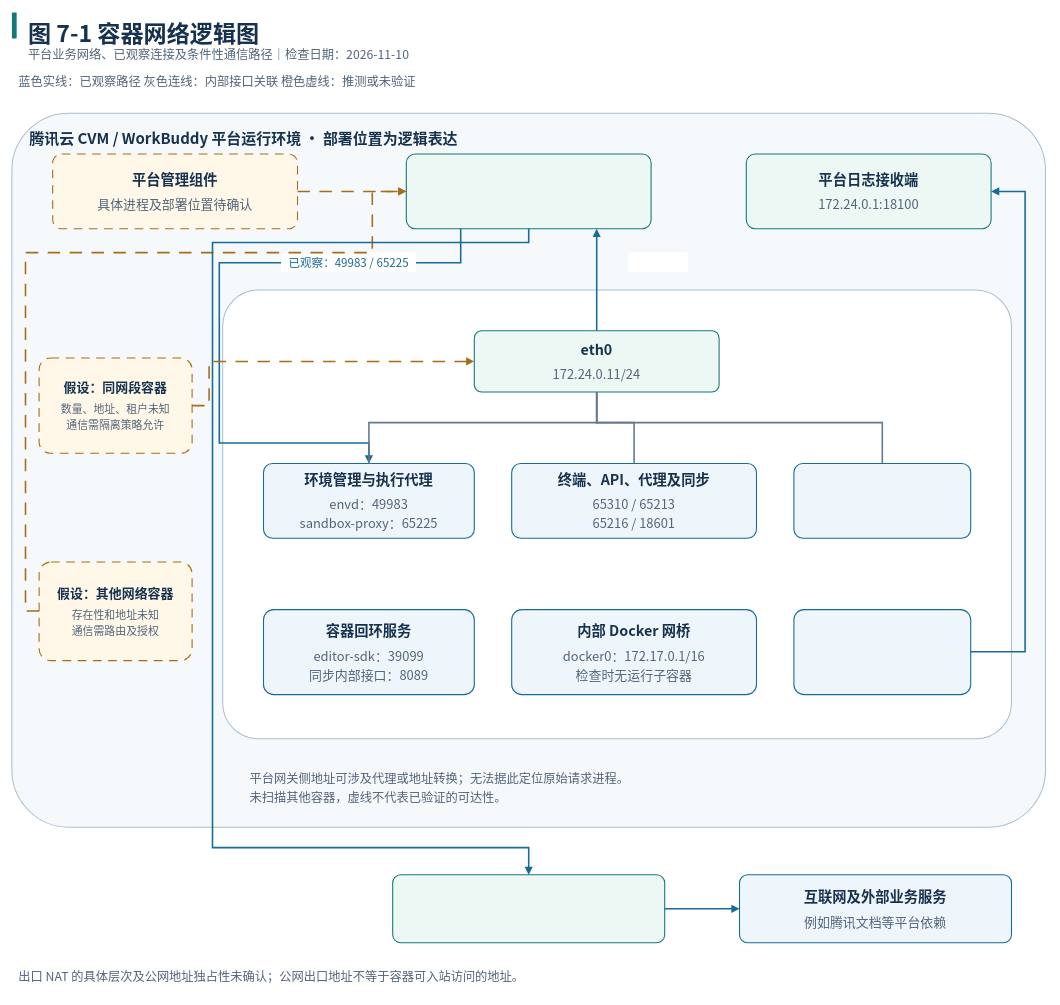
The diagram is 1060 pixels wide and 1005 high, and some of its shapes have lost their labels. The shapes that lost their labels are listed below. From the top down, each one's box as (x1, y1, x2, y2) in pixels, then its label:
(405, 153, 651, 229): 平台网关侧地址 172.24.0.1
(628, 252, 687, 271): 默认路由
(222, 289, 1012, 739): WorkBuddy 执行容器 · 064f56bb22e3
(793, 463, 971, 538): OpenSSH TCP 22
(793, 609, 971, 695): 日志采集及转发 目标：网关 TCP 18100
(392, 874, 665, 943): 已观察到的公网出口 43.134.172.85
